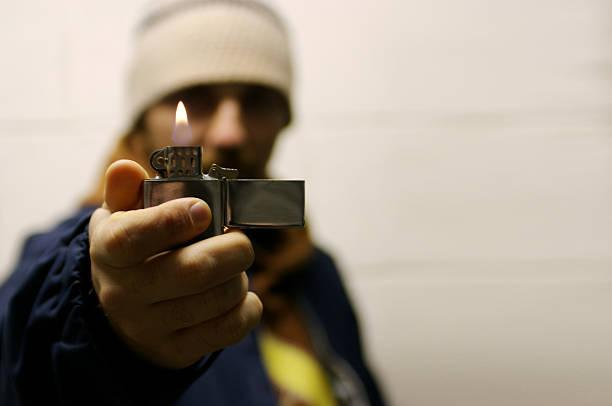Fire: (172, 99, 193, 143)
